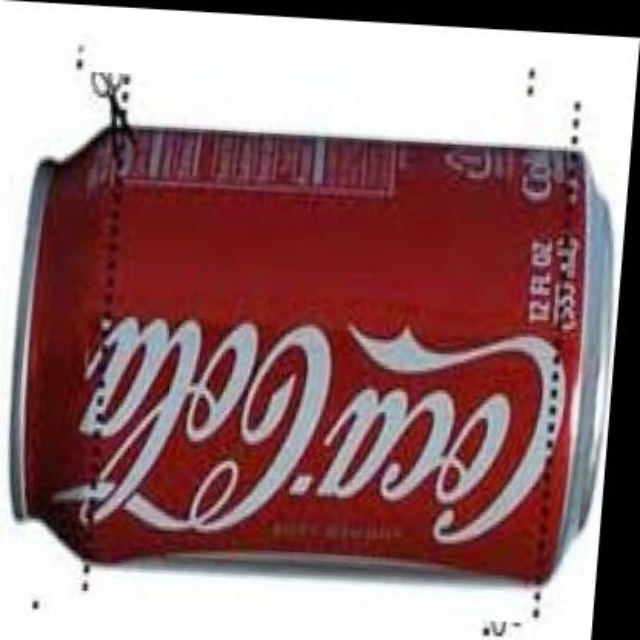trash: (12, 126, 609, 580)
